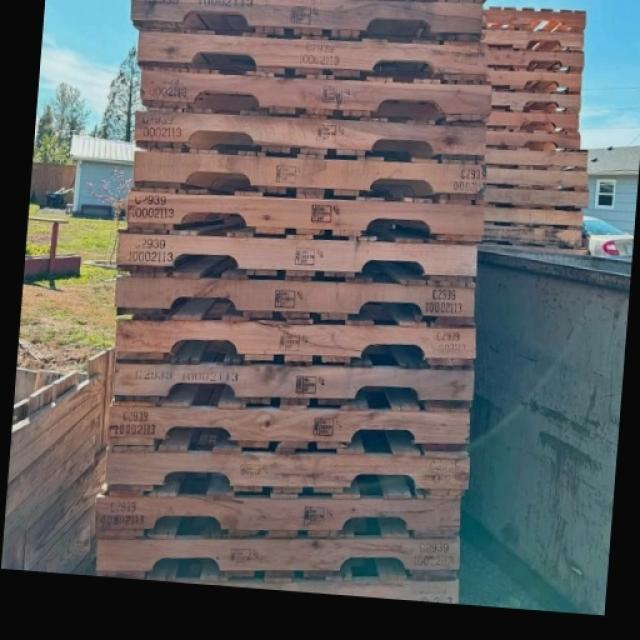non-igps: (107, 253, 489, 342), (104, 338, 482, 426), (130, 10, 498, 100), (124, 130, 494, 219), (95, 432, 479, 516), (134, 49, 499, 137), (96, 379, 479, 462), (118, 178, 493, 259), (126, 95, 496, 174), (85, 518, 469, 590), (110, 217, 483, 291), (86, 482, 467, 554), (108, 308, 484, 379), (121, 0, 492, 52), (472, 18, 590, 60), (482, 60, 586, 106), (482, 38, 588, 82), (474, 1, 590, 40), (479, 119, 583, 157), (481, 100, 583, 138), (488, 84, 586, 122)
